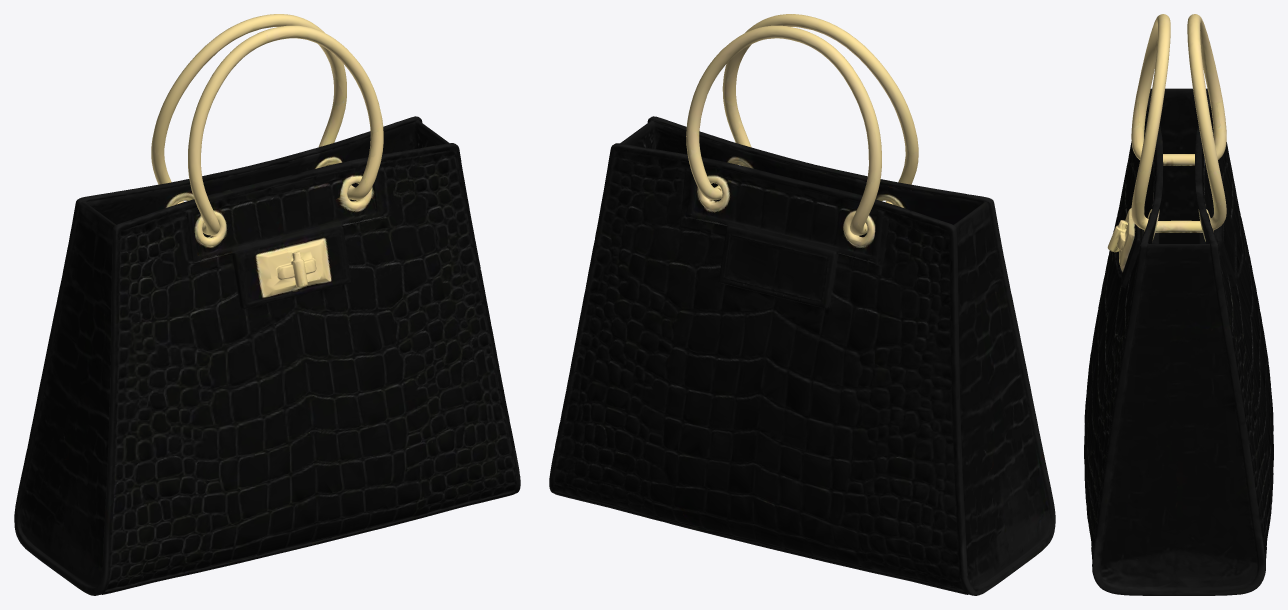
The model's file is bag.glb.
3 views of the same model, side by side, from view 1: azimuth 30°, elevation 25°; view 2: azimuth 150°, elevation 25°; view 3: azimuth 270°, elevation 25° (orthographic). The views are drawn at different scales.
Size of the model in its own units: 1.69 by 1.9 by 0.6881.
Materials: 1 (1 with a texture image).
